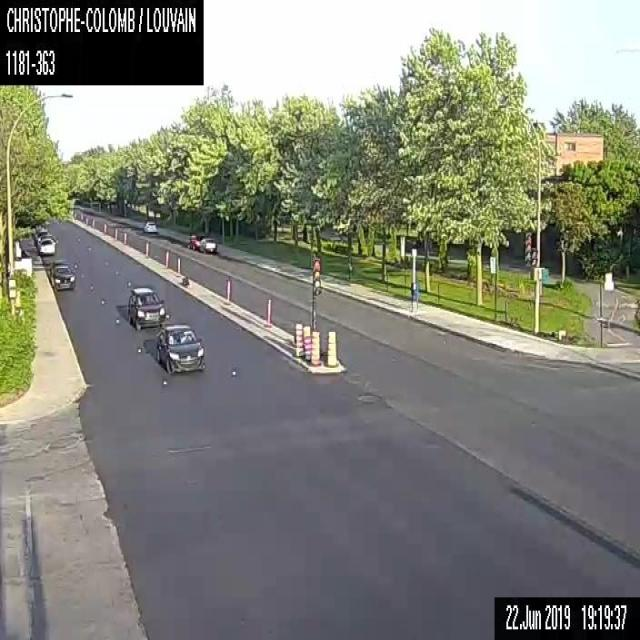construction: (324, 328, 336, 365), (309, 330, 321, 365), (294, 322, 303, 355), (303, 324, 310, 361), (266, 296, 271, 329), (226, 278, 229, 306), (176, 256, 180, 276), (165, 250, 169, 268), (145, 242, 148, 258), (114, 226, 117, 240), (123, 231, 126, 245), (92, 217, 95, 228), (104, 222, 106, 234)
vehicle: (155, 323, 204, 372), (127, 286, 164, 330), (48, 260, 74, 291), (38, 237, 55, 254), (199, 236, 217, 252), (188, 233, 205, 249), (37, 232, 57, 245), (142, 219, 156, 233)
